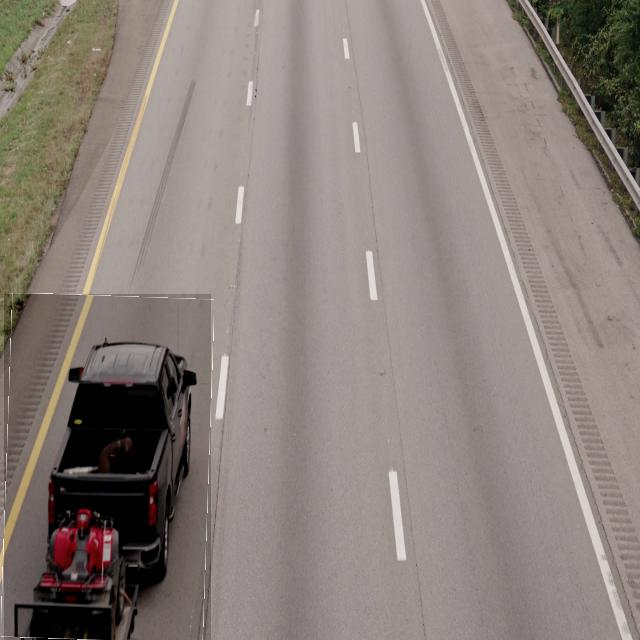Truck: (4, 294, 211, 640)
